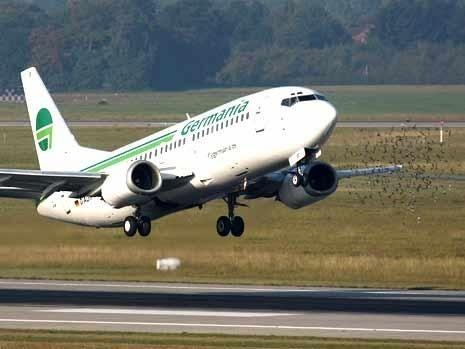airplane: (1, 61, 401, 240)
